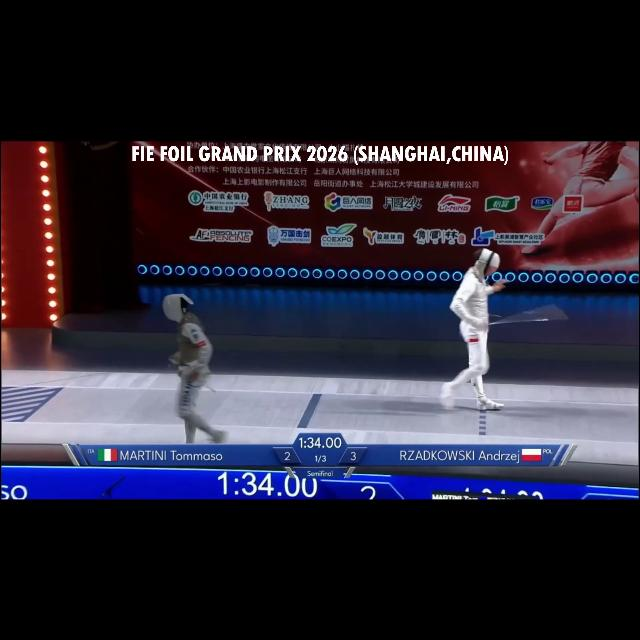blade: (479, 305, 568, 329)
